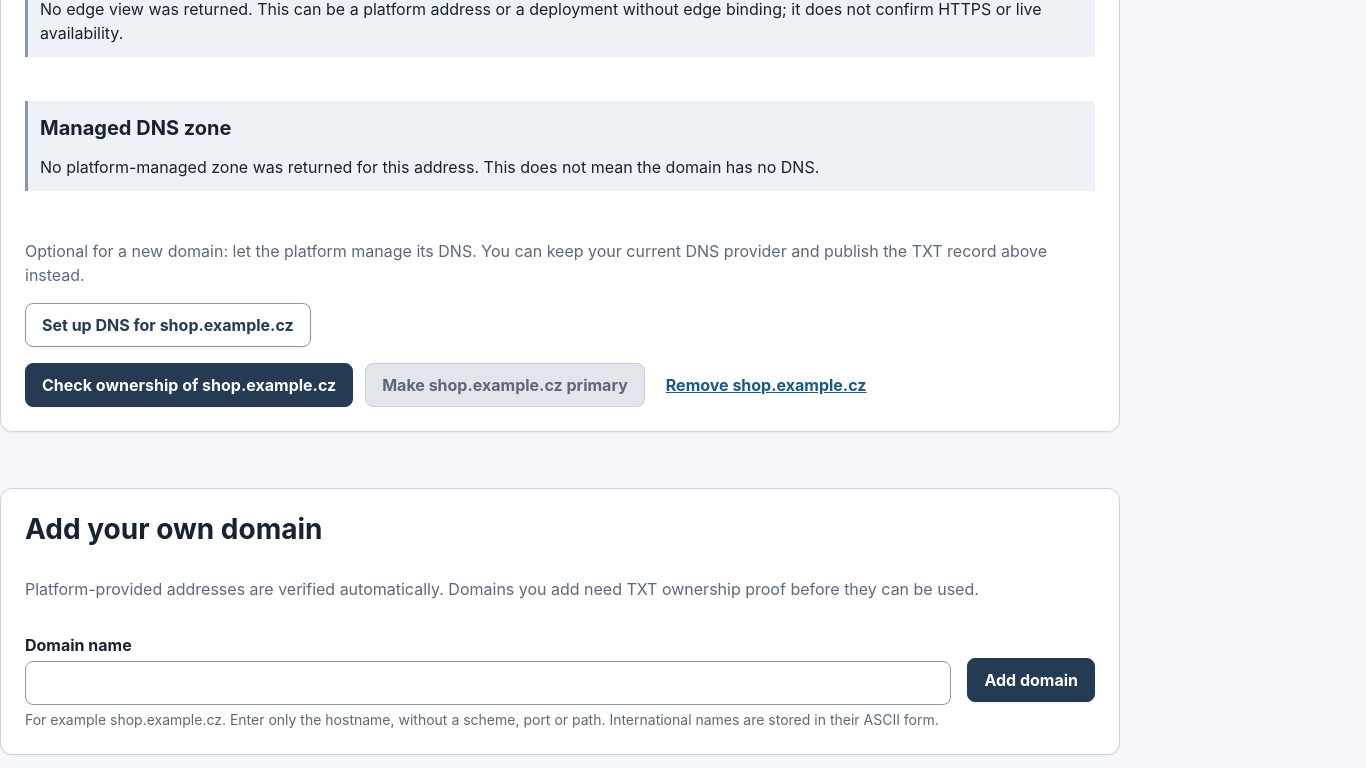
it: domain edge progress › reads waiting/binding after successful ownership proof without claiming live HTTPS or blocking a proved primary choice
(page scrolled)
Step 1. Click the button "Check ownership of shop.example.cz" → (189, 385), box [25, 363, 353, 407]
(page scrolled)
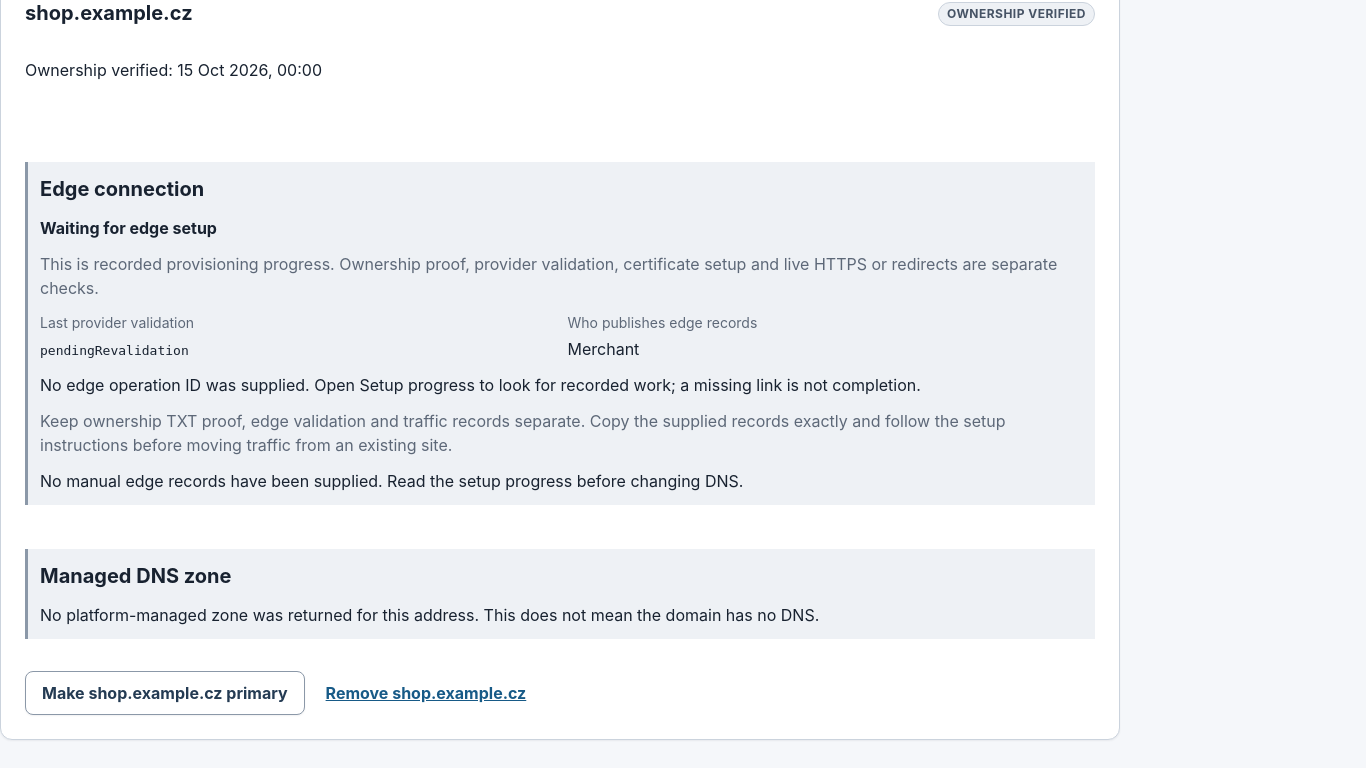
Expected: the text "Waiting for edge setup" is shown, [40, 218, 217, 238]
Expected: the text "Ownership verified" is shown, [938, 2, 1095, 26]
Expected: the button "Make shop.example.cz primary" is enabled, [25, 671, 305, 715]
